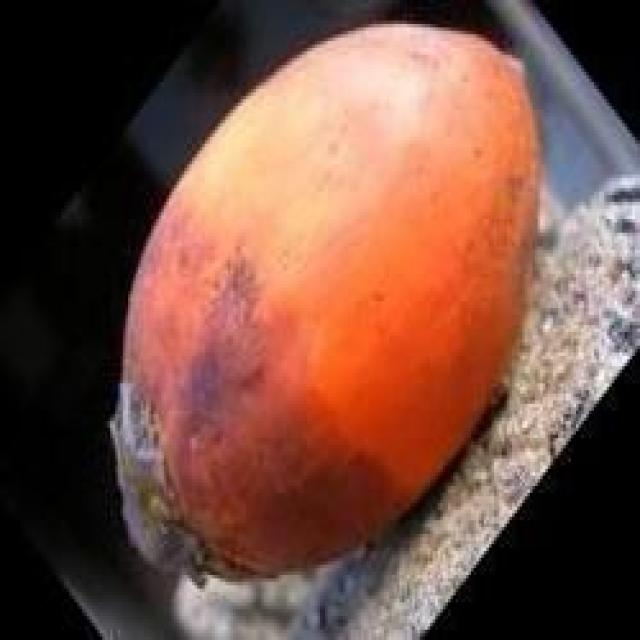good: (108, 21, 545, 606)
